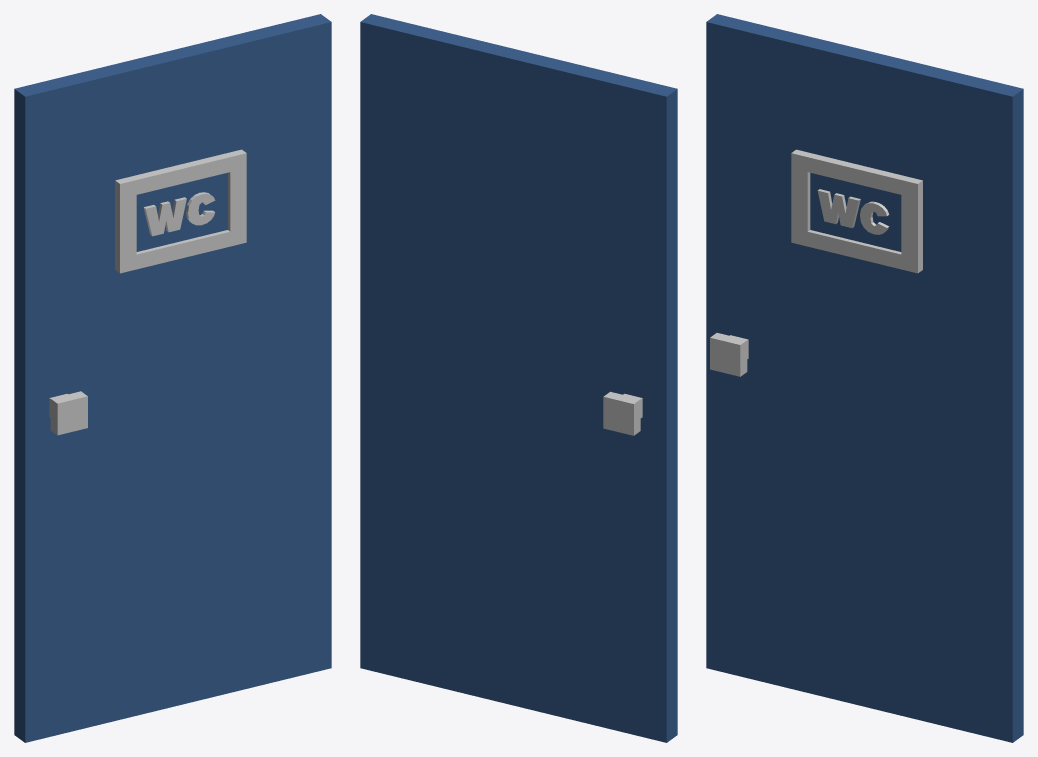
3 views of the same model, side by side, from view 1: azimuth 30°, elevation 25°; view 2: azimuth 150°, elevation 25°; view 3: azimuth 330°, elevation 25° (orthographic).
Visible parts, largest first — view 1: WC_01_2; view 2: WC_01_2; view 3: WC_01_2.
Part boxes in pixels (x1,y1,x2,y2): WC_01_2: [14, 14, 331, 742]; WC_01_2: [360, 14, 677, 742]; WC_01_2: [706, 14, 1023, 742].
Bounding box in the file's own units: 96.91 × 195 × 21.98.
